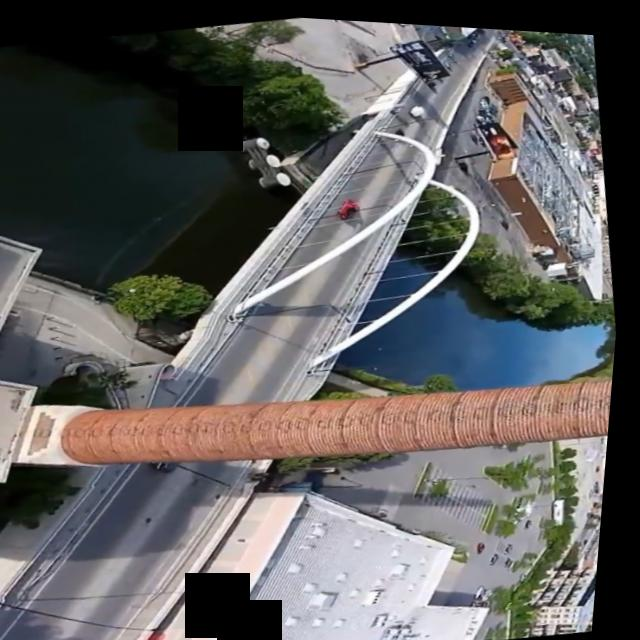Building: (52, 332, 619, 525), (177, 98, 510, 406), (145, 455, 499, 640)
